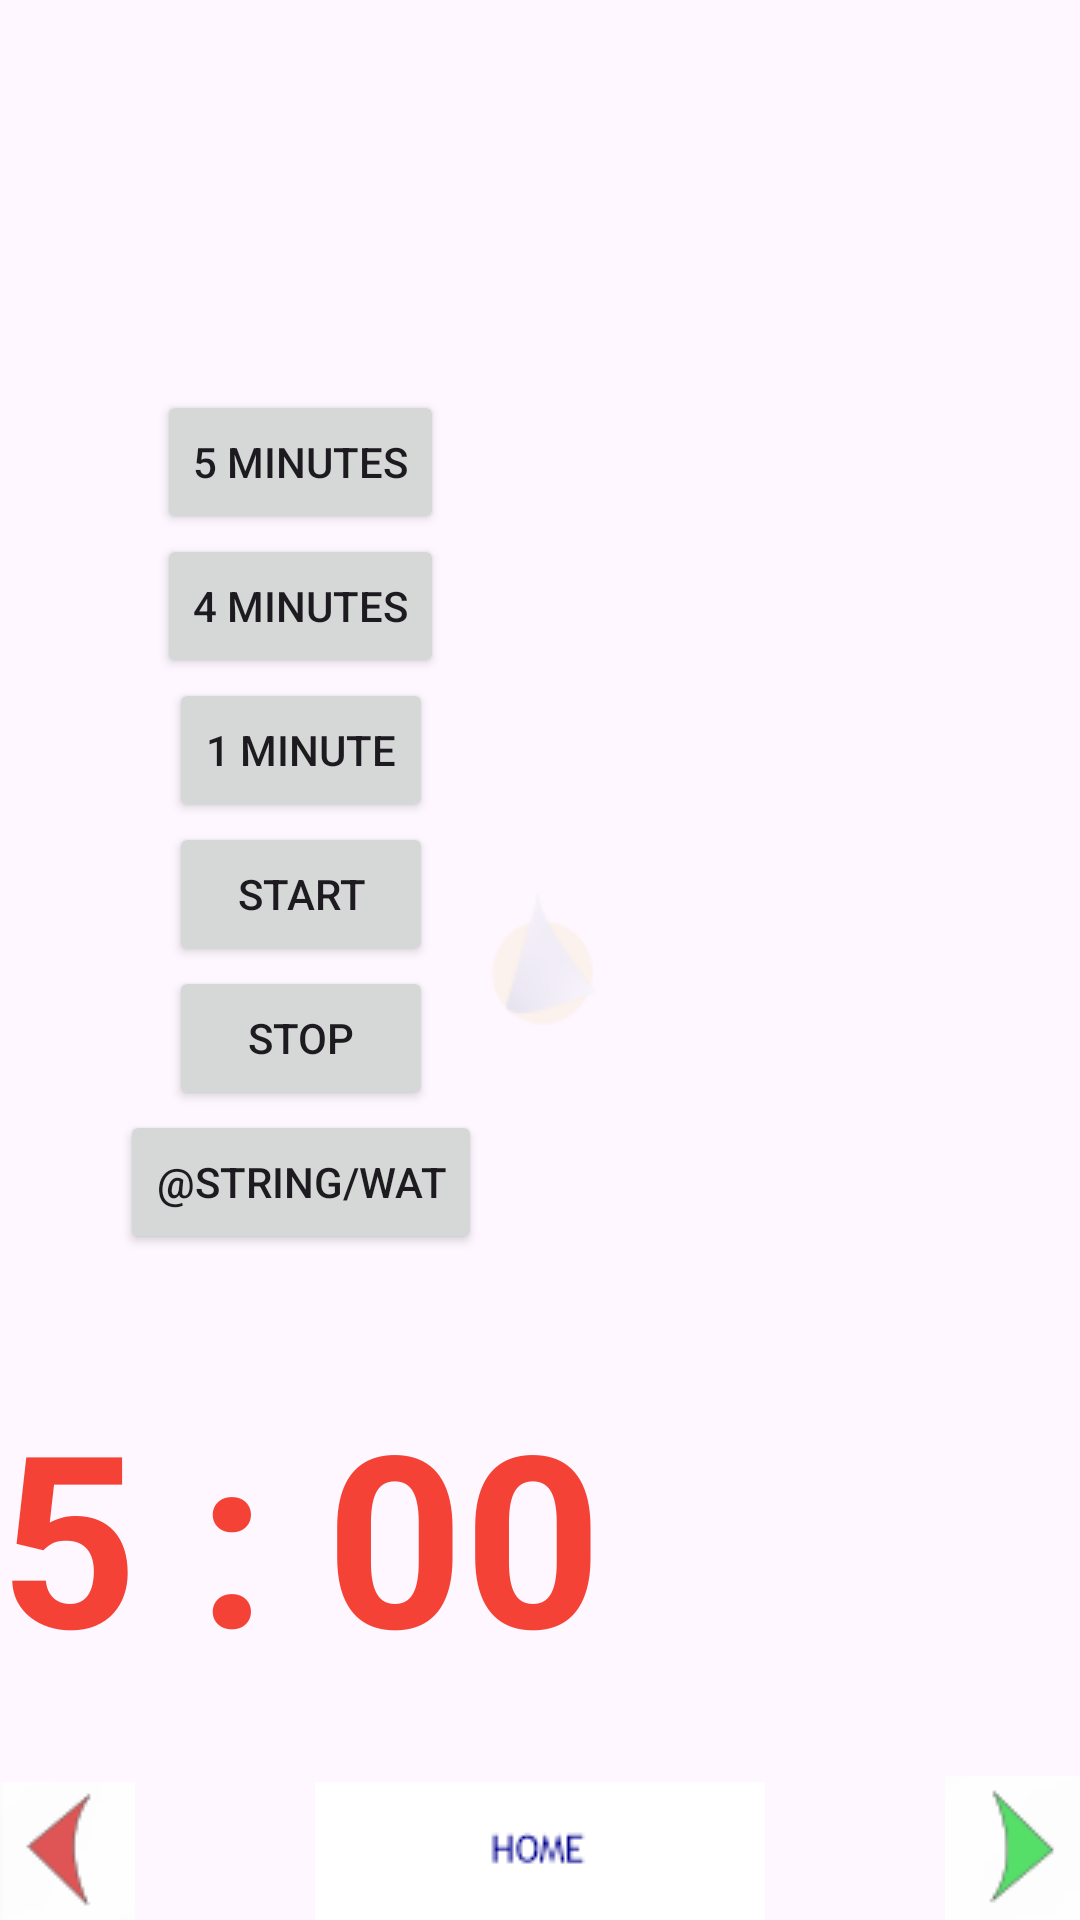

Named icons in this screenshot (1080*1920) and their centers, point (x, y):
Left Nav: point (58, 1849)
Right Nav: point (1022, 1846)
